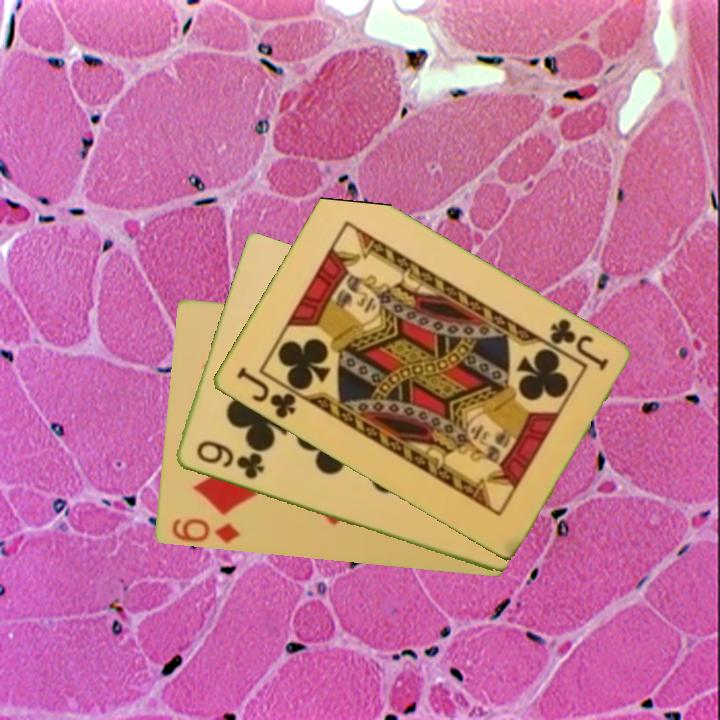6d: (168, 515, 242, 547)
9c: (192, 437, 267, 483)
Jc: (232, 363, 299, 422), (545, 315, 611, 374)
